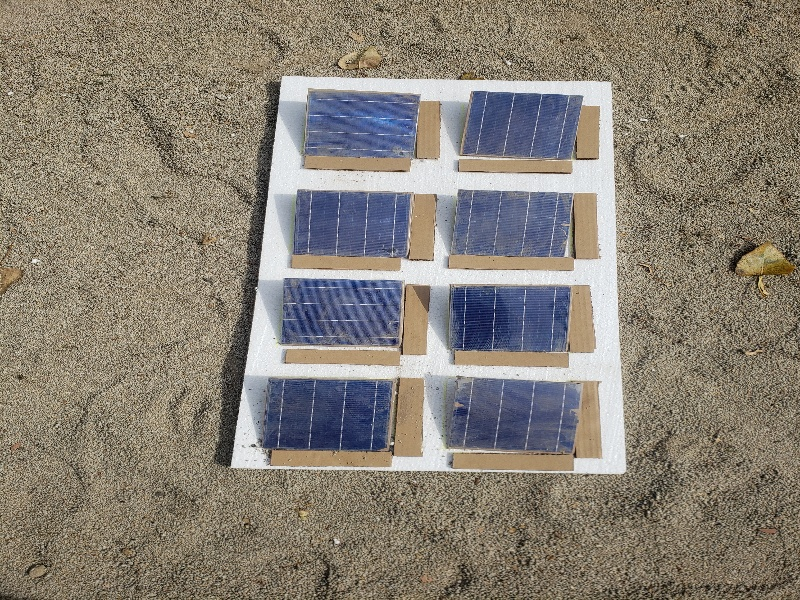dirty: (452, 374, 577, 451), (452, 191, 575, 259), (280, 278, 403, 346), (296, 191, 408, 259), (466, 92, 576, 159)
semi: (257, 378, 402, 453), (453, 288, 573, 352), (307, 94, 418, 161)
